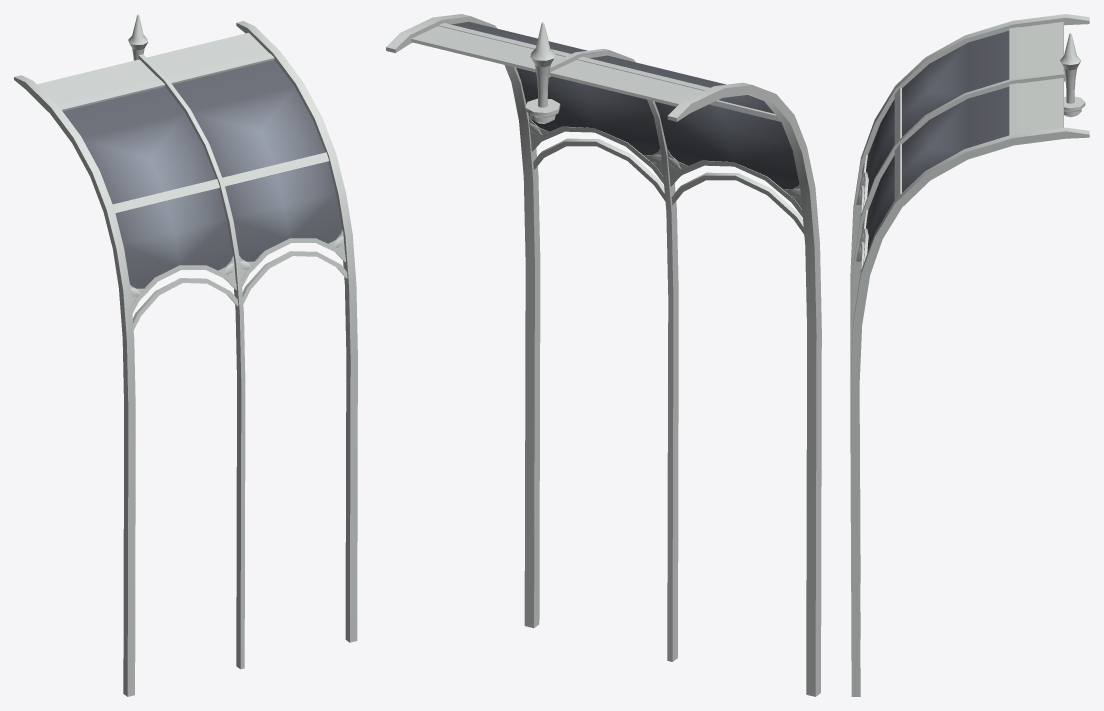
3 views of the same model, side by side, from view 1: azimuth 30°, elevation 25°; view 2: azimuth 150°, elevation 25°; view 3: azimuth 270°, elevation 25° (orthographic). The views are drawn at different scales.
Visible parts, largest first — view 1: G:\FFXIV-MapTools\exports\f1t2\bg\ffxiv\fst_f1\twn\common\bg (×4); view 2: G:\FFXIV-MapTools\exports\f1t2\bg\ffxiv\fst_f1\twn\common\bg (×4); view 3: G:\FFXIV-MapTools\exports\f1t2\bg\ffxiv\fst_f1\twn\common\bg (×4).
Part boxes in pixels (x1,y1,x2,y2): G:\FFXIV-MapTools\exports\f1t2\bg\ffxiv\fst_f1\twn\common\bg (×4): (14, 14, 357, 696); G:\FFXIV-MapTools\exports\f1t2\bg\ffxiv\fst_f1\twn\common\bg (×4): (386, 14, 821, 696); G:\FFXIV-MapTools\exports\f1t2\bg\ffxiv\fst_f1\twn\common\bg (×4): (850, 14, 1089, 696).
Size of the model in its own units: 6 by 14.44 by 5.17.
